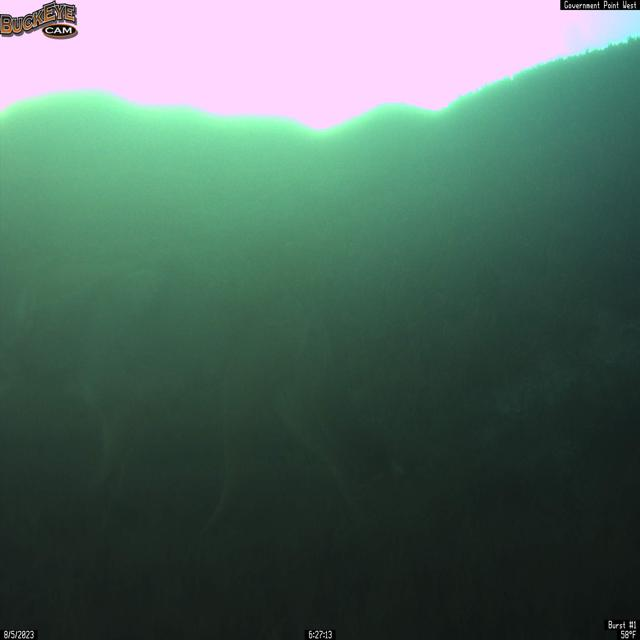deer: (4, 250, 410, 562)
